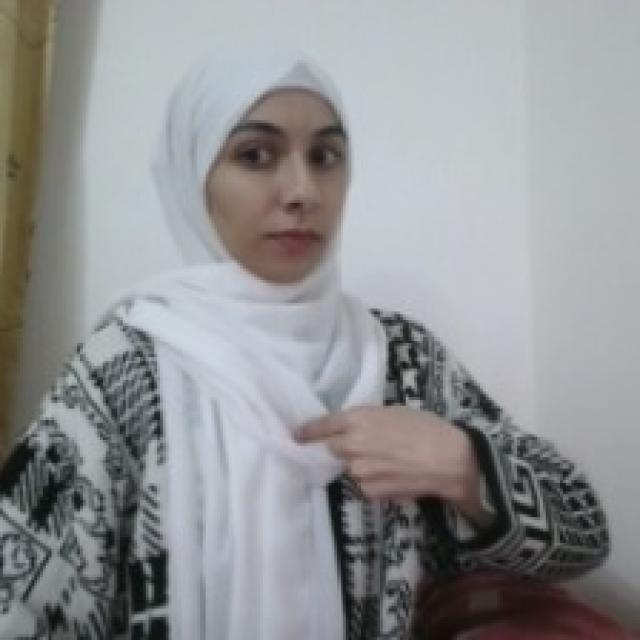me: (284, 394, 463, 510)
